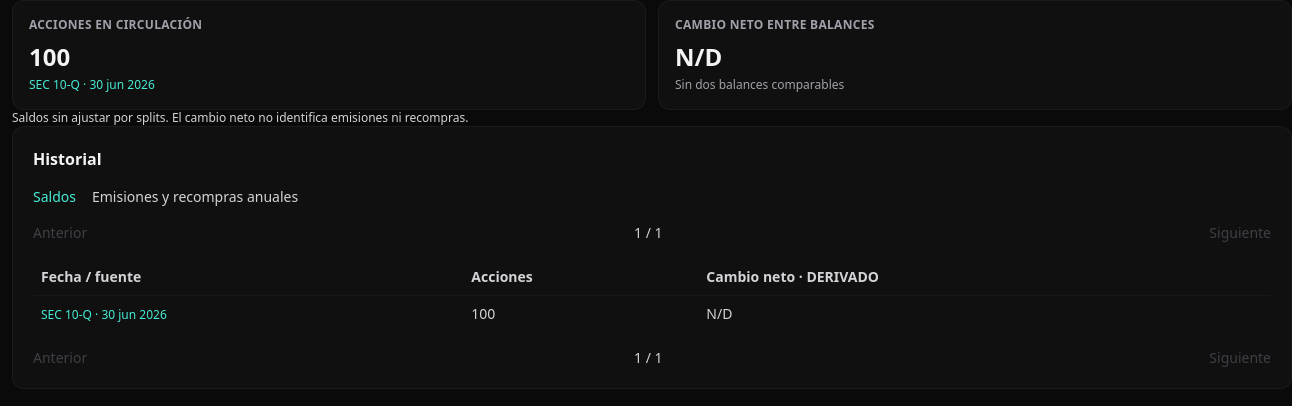
it: ShareCapitalPanel › flujos vacíos: mensaje propio
Click the button "Emisiones y recompras anuales" at [195, 197], box [92,187,298,207]
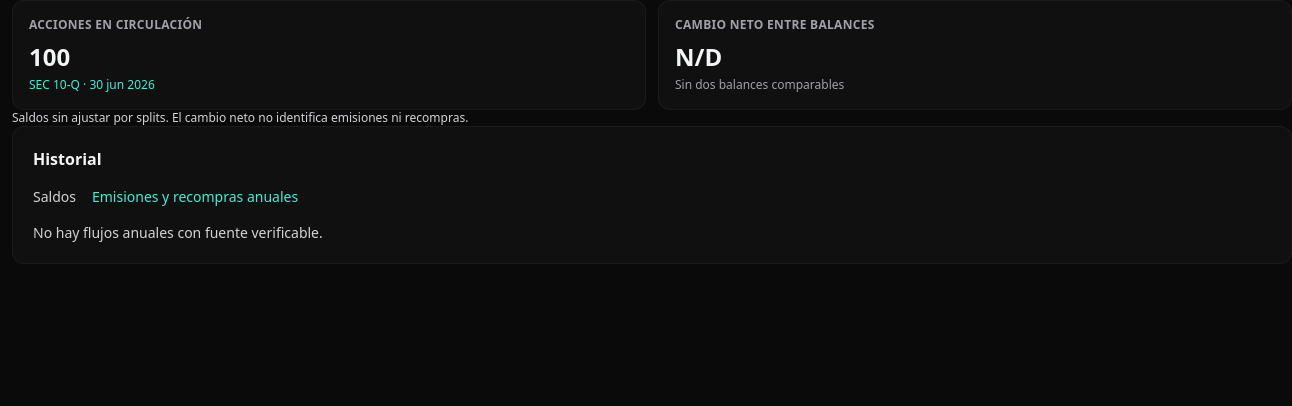
Now the text "No hay flujos anuales con fuente verificable." is shown, box [33,223,323,242]
